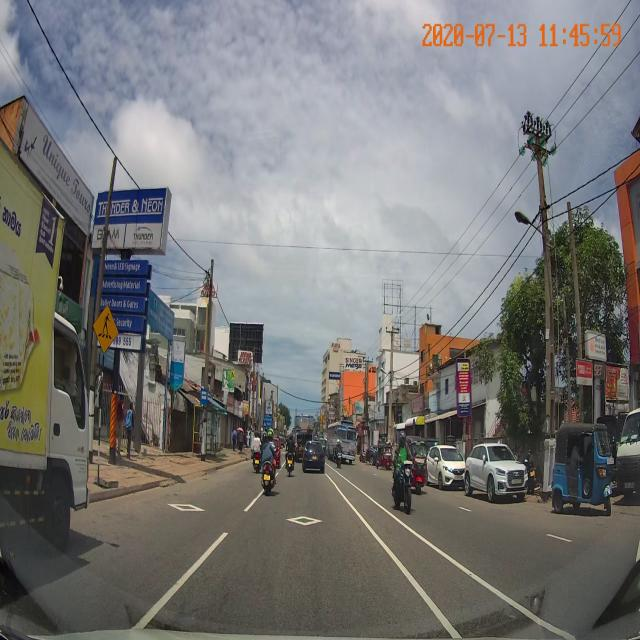Romb: (285, 516, 324, 526), (167, 504, 207, 511)
